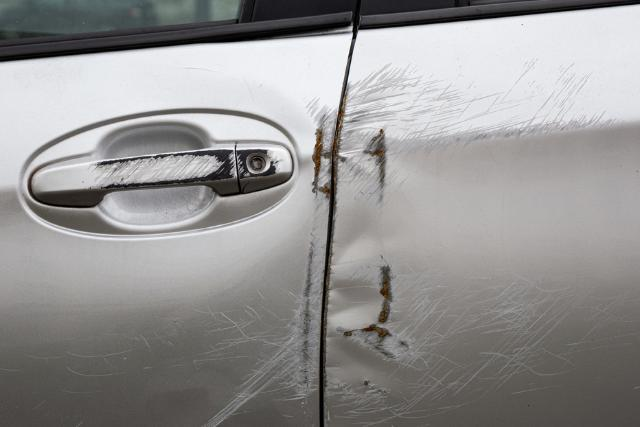Door: (323, 9, 640, 423), (24, 37, 355, 427)
